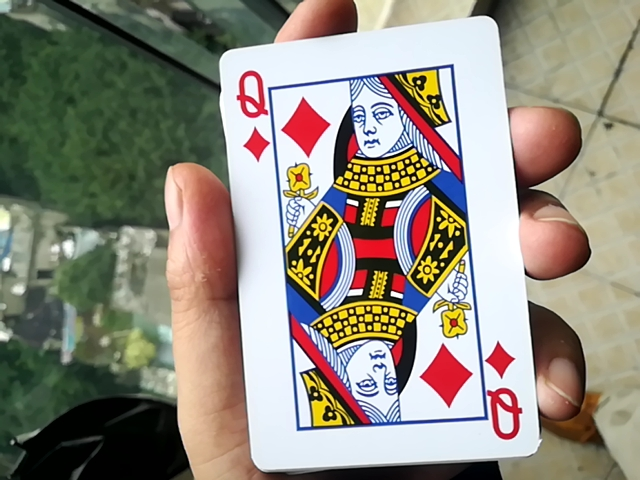fk q: (206, 22, 543, 474)
